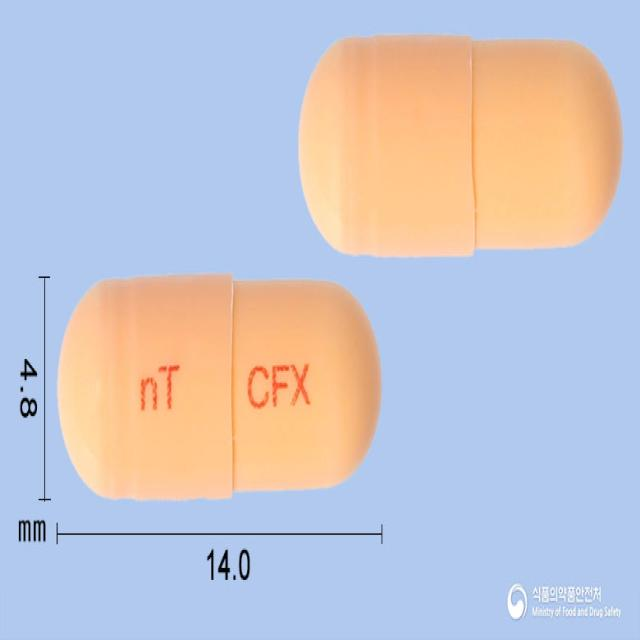NT-fixime Cap: (58, 273, 382, 501)
